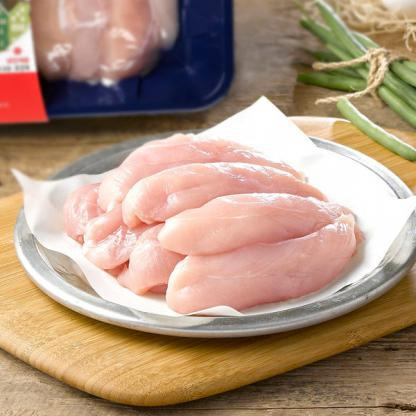chicken: (169, 240, 377, 306), (163, 188, 359, 256), (92, 142, 313, 200), (126, 162, 340, 210)
